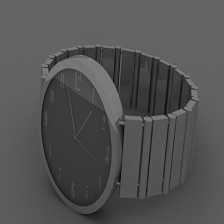Watch: (18, 32, 193, 219)
